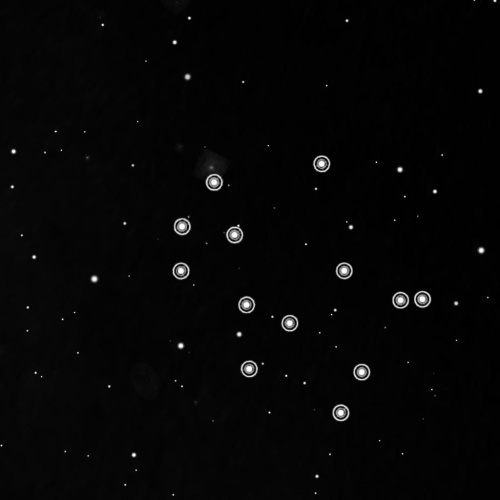gemini: (162, 146, 441, 429)
